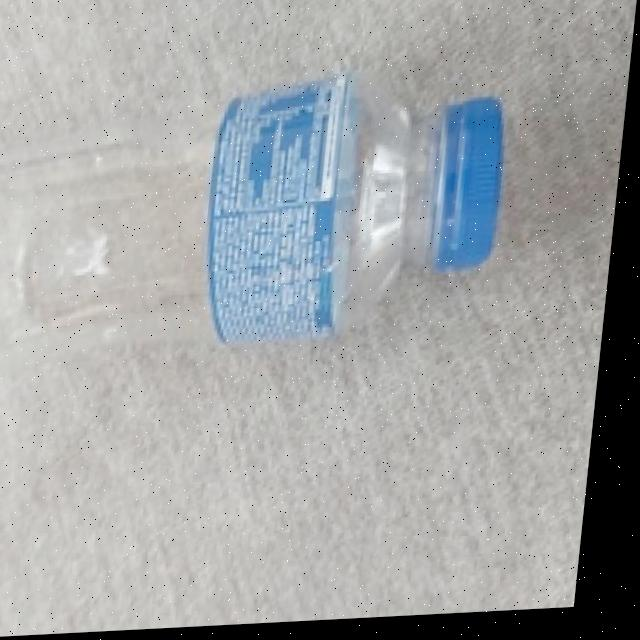sise: (0, 63, 552, 377)
